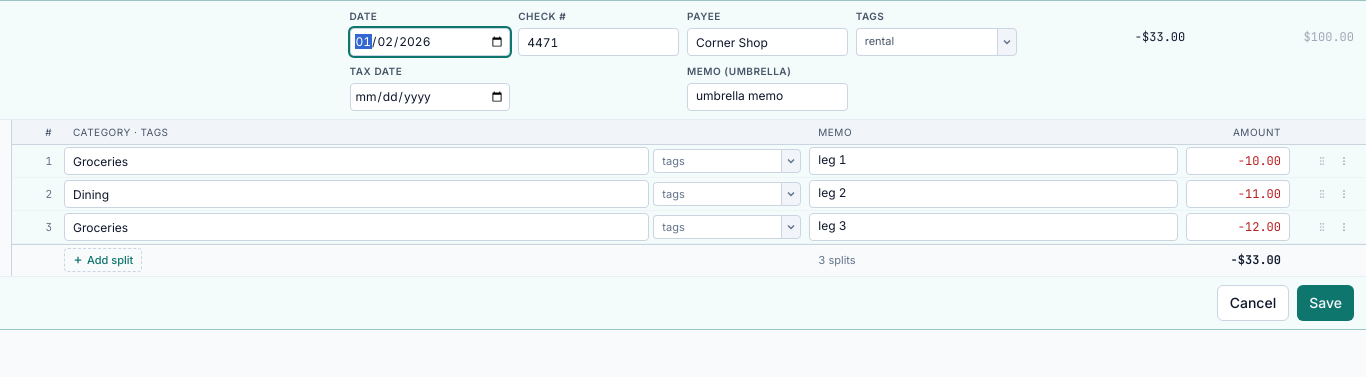
amounts › blocks a blank amount and names the posting that is blank
Clear the number field named "Posting 2 amount". click: (1238,194)
box: [1186, 180, 1290, 208]
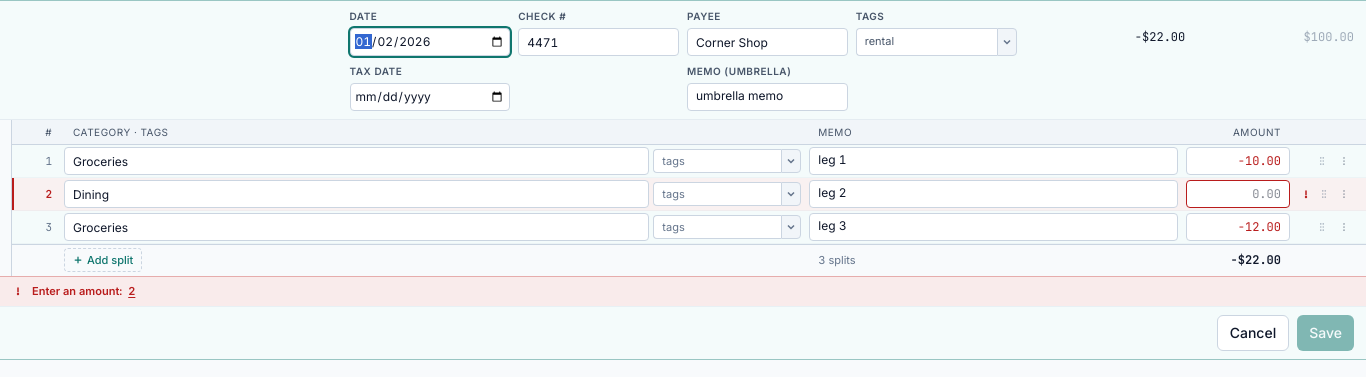
Expected: the button "Save" is disabled, [1297, 314, 1354, 350]
Expected: the button named "Posting 2: amount is required" is shown, [126, 283, 137, 300]
Expected: the text "Enter an amount:" is shown, [32, 283, 122, 300]
